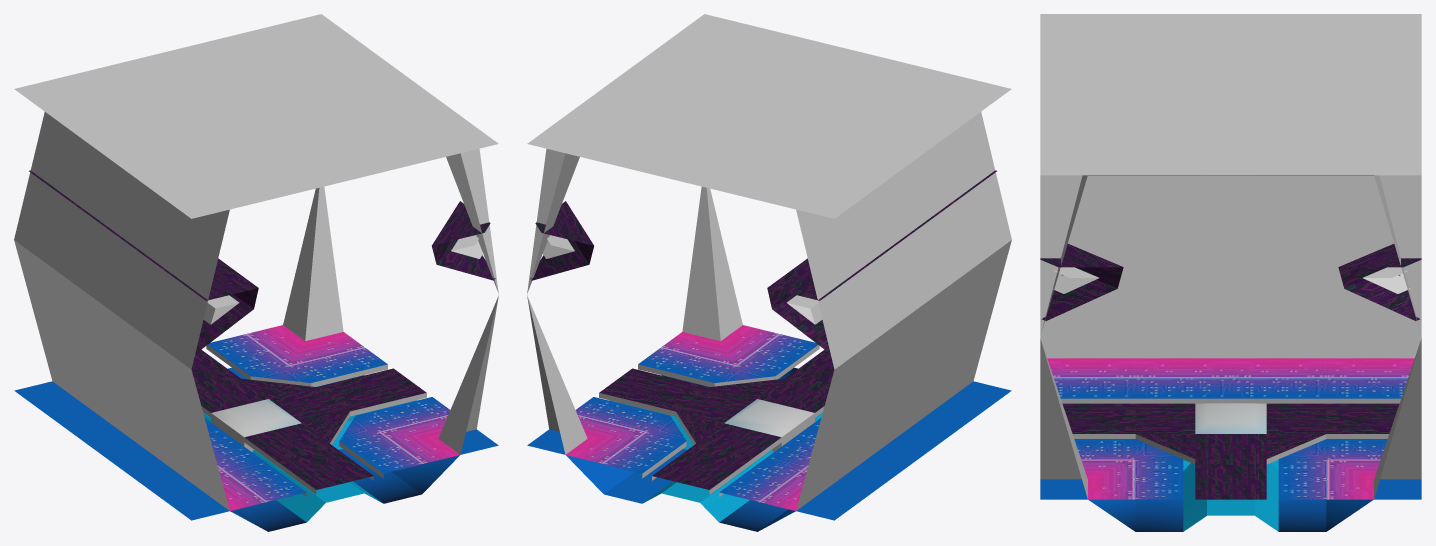
File: cbroad06.FBX
3 views of the same model, side by side, from view 1: azimuth 30°, elevation 25°; view 2: azimuth 150°, elevation 25°; view 3: azimuth 270°, elevation 25° (orthographic). The views are drawn at different scales.
Visible parts, largest first — view 1: tower4, tower2, tower, glass2, glass1, cbroad06, nodule, glass3, glass5, glass4; view 2: tower4, tower2, tower, glass2, glass1, cbroad06, nodule, glass3, glass5, glass4; view 3: tower, tower4, glass2, glass1, tower2, nodule, cbroad06, glass3, glass5, glass4.
Part boxes in pixels (x1=…): tower4: x1=14, y1=14, x2=498, y2=218; tower2: x1=14, y1=112, x2=498, y2=369; tower: x1=14, y1=186, x2=498, y2=510; glass2: x1=204, y1=325, x2=459, y2=510; glass1: x1=191, y1=349, x2=426, y2=489; cbroad06: x1=14, y1=367, x2=498, y2=531; nodule: x1=203, y1=235, x2=483, y2=522; glass3: x1=29, y1=170, x2=495, y2=353; glass5: x1=206, y1=345, x2=387, y2=496; glass4: x1=201, y1=393, x2=426, y2=494; tower4: x1=527, y1=14, x2=1011, y2=218; tower2: x1=527, y1=112, x2=1011, y2=369; tower: x1=527, y1=186, x2=1011, y2=510; glass2: x1=566, y1=325, x2=821, y2=510; glass1: x1=599, y1=349, x2=834, y2=489; cbroad06: x1=527, y1=367, x2=1011, y2=531; nodule: x1=542, y1=235, x2=822, y2=522; glass3: x1=530, y1=170, x2=996, y2=353; glass5: x1=638, y1=345, x2=819, y2=496; glass4: x1=599, y1=393, x2=824, y2=494; tower: x1=1040, y1=176, x2=1421, y2=498; tower4: x1=1040, y1=14, x2=1421, y2=175; glass2: x1=1047, y1=358, x2=1414, y2=499; glass1: x1=1062, y1=403, x2=1399, y2=499; tower2: x1=1040, y1=175, x2=1421, y2=335; nodule: x1=1051, y1=267, x2=1410, y2=531; cbroad06: x1=1040, y1=479, x2=1421, y2=531; glass3: x1=1040, y1=244, x2=1421, y2=320; glass5: x1=1061, y1=398, x2=1400, y2=403; glass4: x1=1072, y1=434, x2=1389, y2=464.
Bounding box in the file's own units: 64 × 66 × 64.
